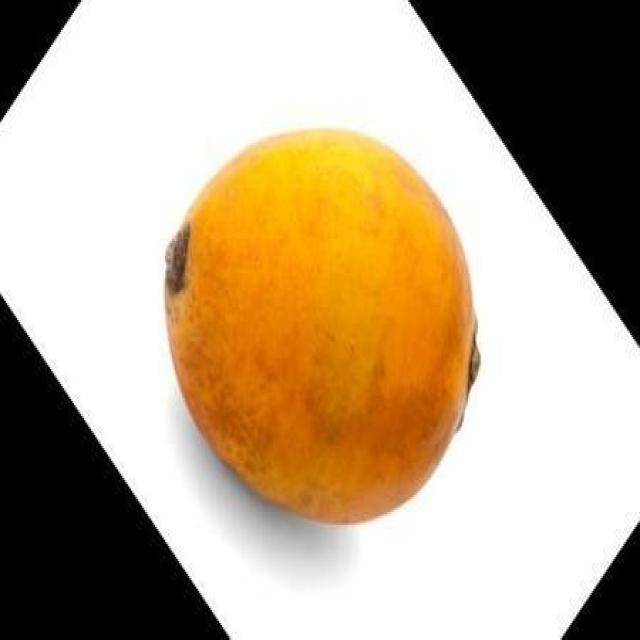good: (159, 124, 479, 529)
